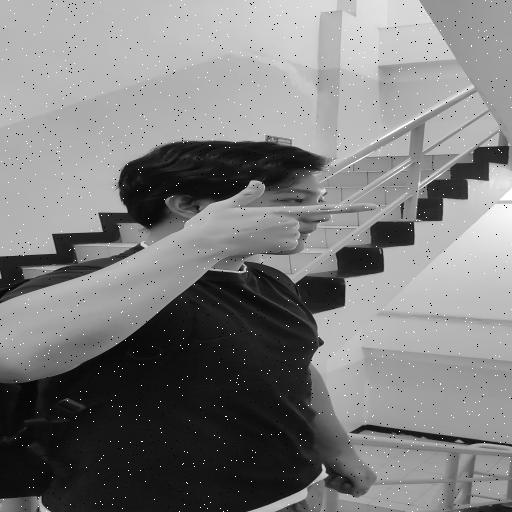next: (159, 175, 402, 268)
